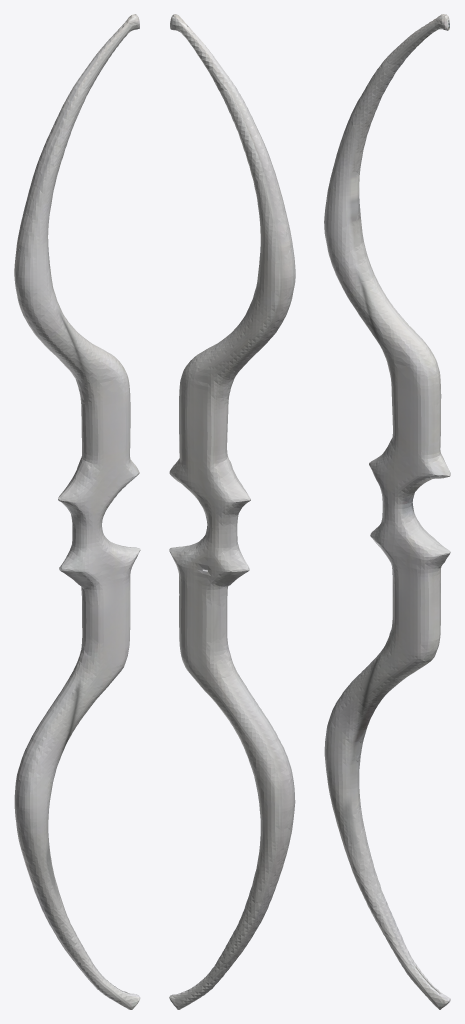
File: Curved_Silhouette_0322103459_texture.fbx
3 renders of one model, left to right at view 1: azimuth 30°, elevation 25°; view 2: azimuth 150°, elevation 25°; view 3: azimuth 330°, elevation 25°, orthographic.
Visible parts, largest first — view 1: temp; view 2: temp; view 3: temp.
Boxes of the visible parts, x1=… form: temp: x1=14, y1=14, x2=140, y2=1009; temp: x1=169, y1=14, x2=295, y2=1009; temp: x1=324, y1=14, x2=450, y2=1009.
Size of the model in its own units: 25.84 by 198 by 6.14.
1 material, 1 textured.
